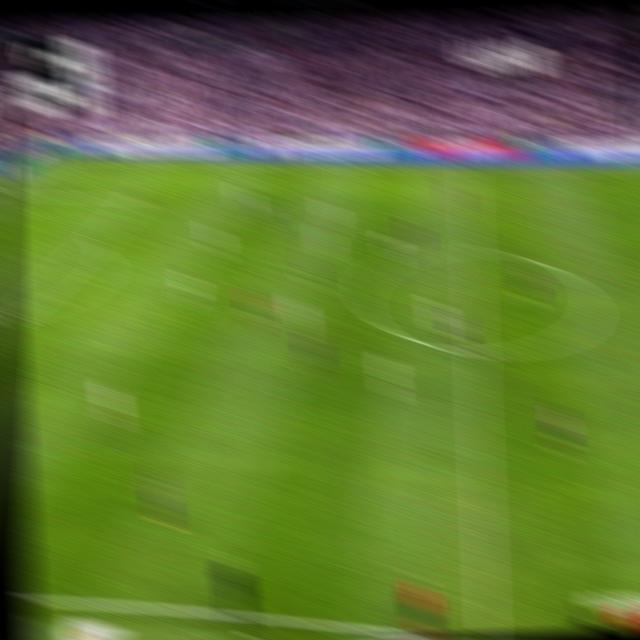bigarea_top_inner: (129, 190, 148, 208)
bottom_arc_area_intersection: (5, 303, 28, 323)
corner: (46, 152, 65, 164)
halfcircle_bottom: (464, 336, 488, 365)
halfcircle_top: (460, 237, 484, 262)
midline_top_intersection: (458, 159, 478, 175)
top_arc_area_intersection: (82, 233, 102, 252)
